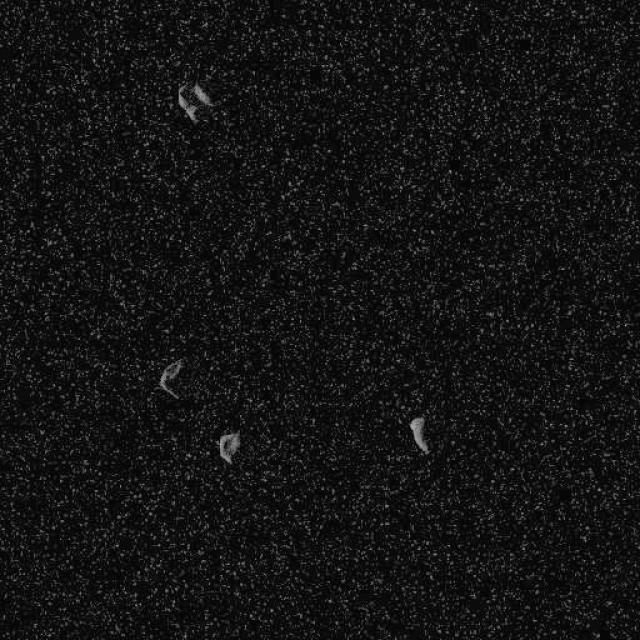D2: (176, 80, 215, 125), (157, 356, 185, 400), (408, 415, 430, 454), (216, 430, 240, 464)
